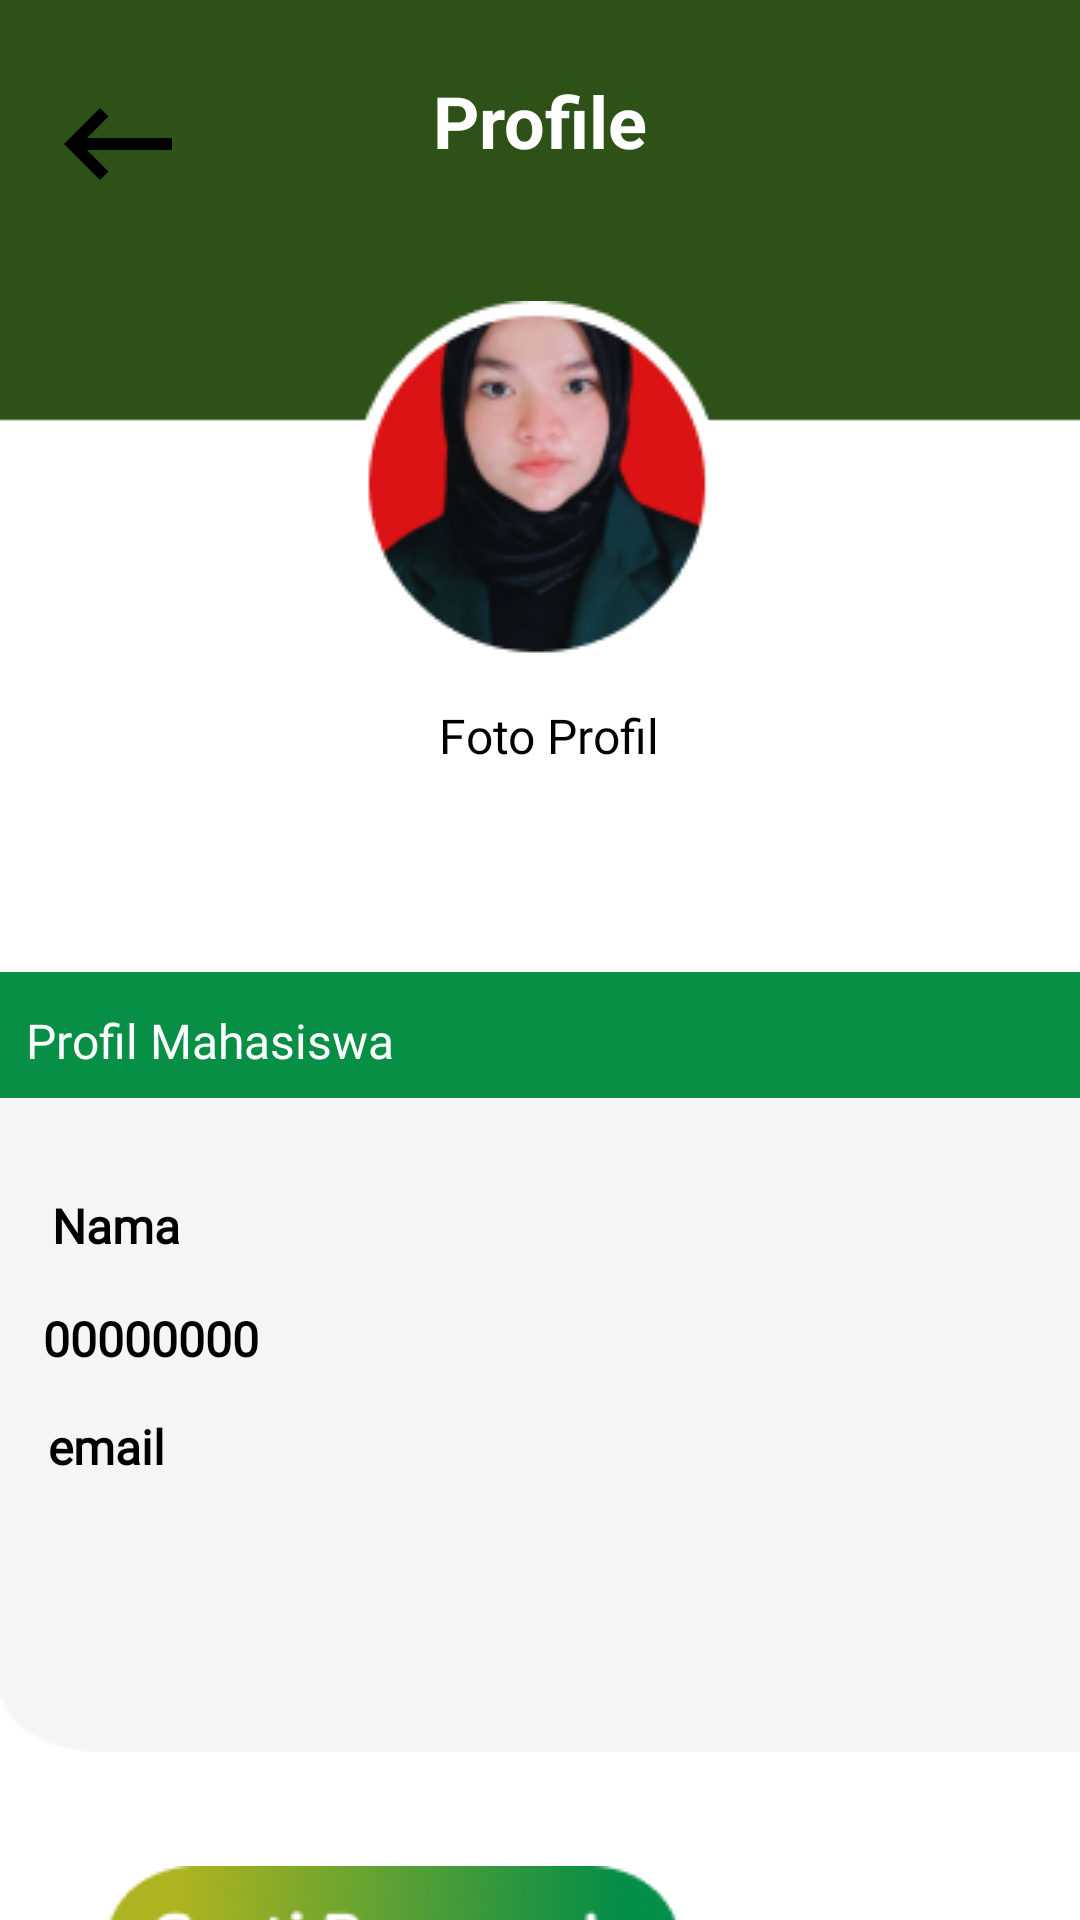

Where to tap for icons on this 1080px×1920px app screen, as point (x, y):
back: point (118, 144)
